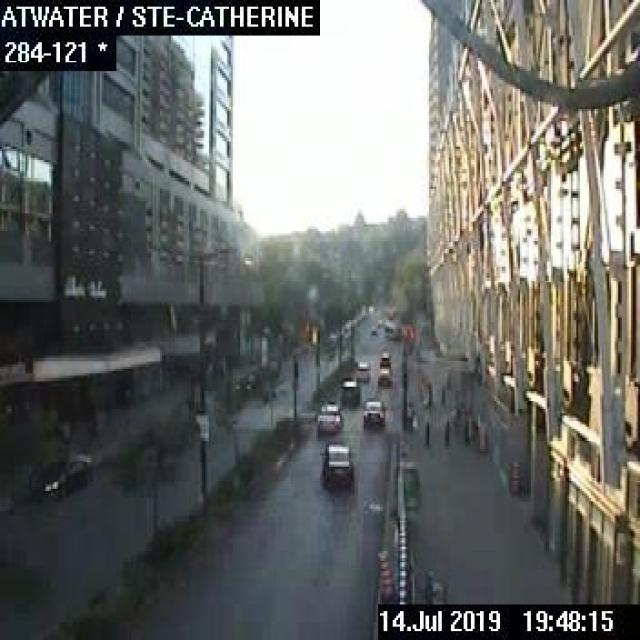construction: (372, 546, 392, 598), (506, 456, 524, 496)
vehicle: (29, 447, 93, 498), (318, 440, 351, 489), (316, 403, 341, 433), (361, 398, 384, 426), (340, 378, 360, 402), (377, 366, 391, 386), (355, 360, 369, 379), (378, 352, 390, 366)
